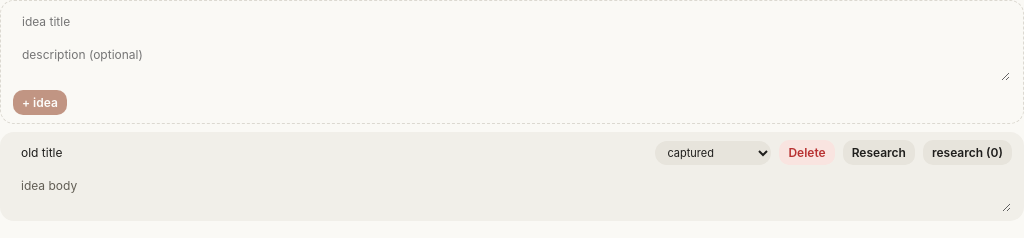
Scenario: IdeasList › reverts the title draft to the store value when the save is rejected (P-27, mirrors GoalTree)
Replace the text in the field with test id "idea-title-input-i1" with "new title" at (330, 152), box [12, 140, 647, 165]
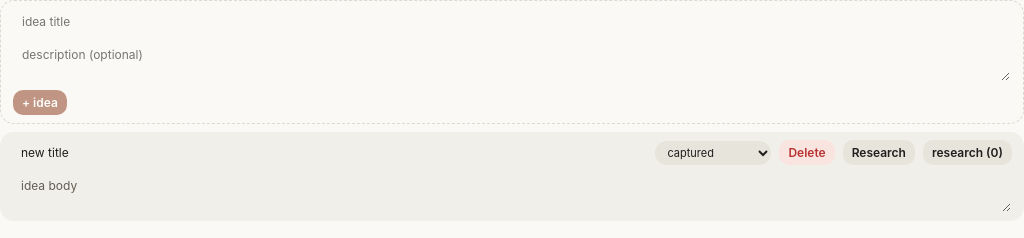
Leave the field with test id "idea-title-input-i1", box [12, 140, 647, 165]
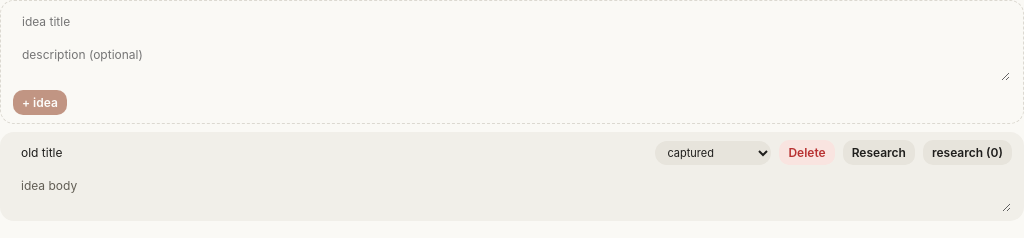
Result: the field with test id "idea-title-input-i1" holds "old title" at [12, 140, 647, 165]
